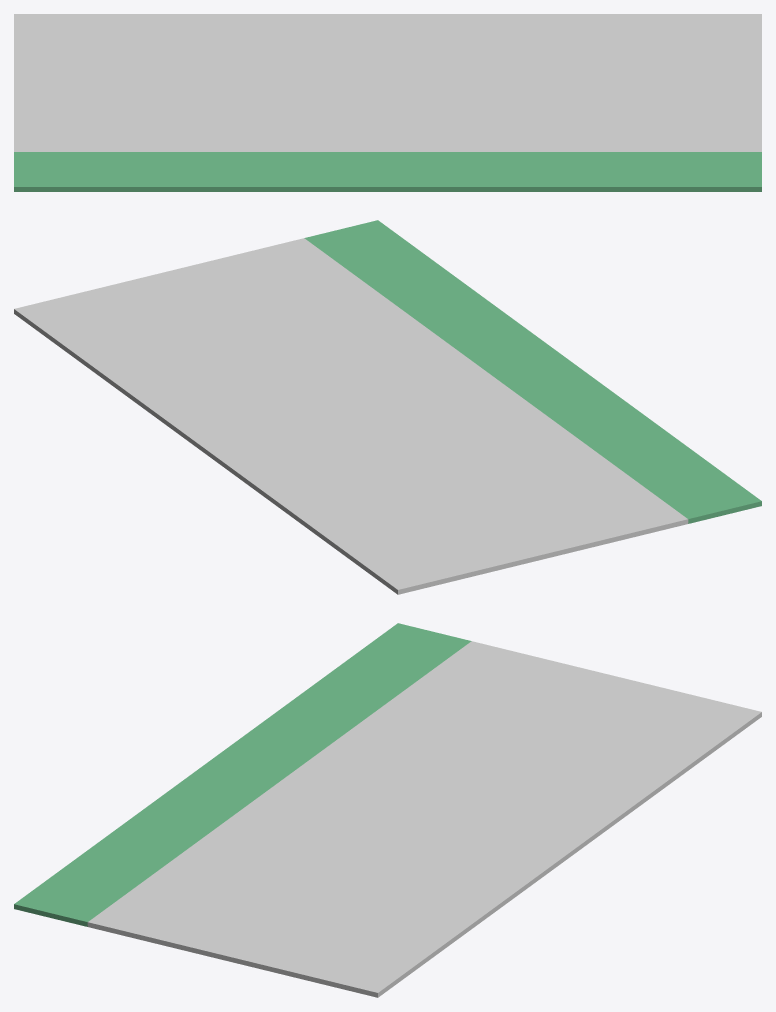
File: 10 Hording.FBX
3 renders of one model, top to bottom at view 1: azimuth 30°, elevation 25°; view 2: azimuth 150°, elevation 25°; view 3: azimuth 270°, elevation 25°, orthographic. The views are drawn at different scales.
Parts seen in each view (by area): view 1: Hoarding; view 2: Hoarding; view 3: Hoarding.
Part boxes in pixels (x1,y1,x2,y2): Hoarding: (14,14,761,191); Hoarding: (14,220,761,594); Hoarding: (14,623,761,997).
Bounding box in the file's own units: 1630 × 10 × 1393.
